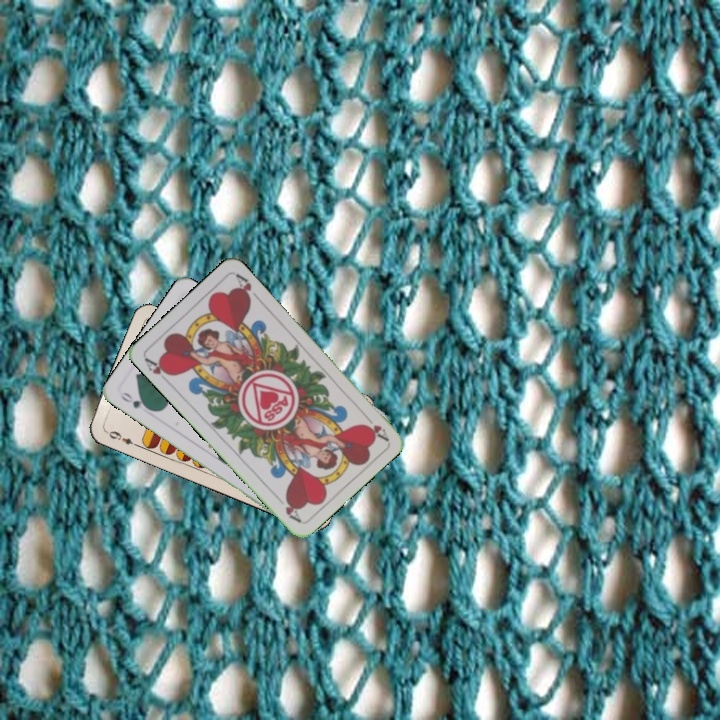E9: (101, 427, 140, 449)
GO: (116, 388, 154, 413)
HA: (140, 353, 176, 387), (359, 409, 391, 443)
